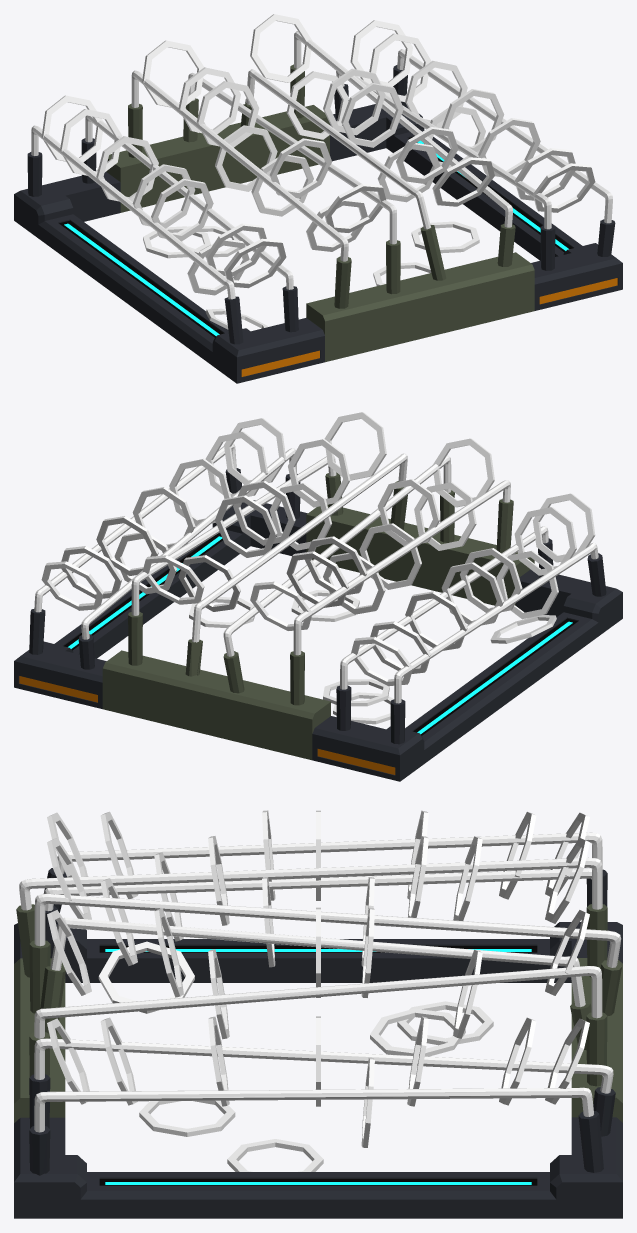
File: SM_Military_Razor_Wire_Destroyed.fbx
3 views of the same model, one above another, from view 1: azimuth 30°, elevation 25°; view 2: azimuth 150°, elevation 25°; view 3: azimuth 270°, elevation 25° (orthographic). The views are drawn at different scales.
Parts seen in each view (by area): view 1: SM_Military_Razor_Wire_Destroyed; view 2: SM_Military_Razor_Wire_Destroyed; view 3: SM_Military_Razor_Wire_Destroyed.
Part boxes in pixels (bbox=[...]): SM_Military_Razor_Wire_Destroyed: bbox=[14, 14, 622, 383]; SM_Military_Razor_Wire_Destroyed: bbox=[14, 412, 622, 781]; SM_Military_Razor_Wire_Destroyed: bbox=[14, 810, 622, 1218].
Size of the model in its own units: 100 by 39.29 by 100.
